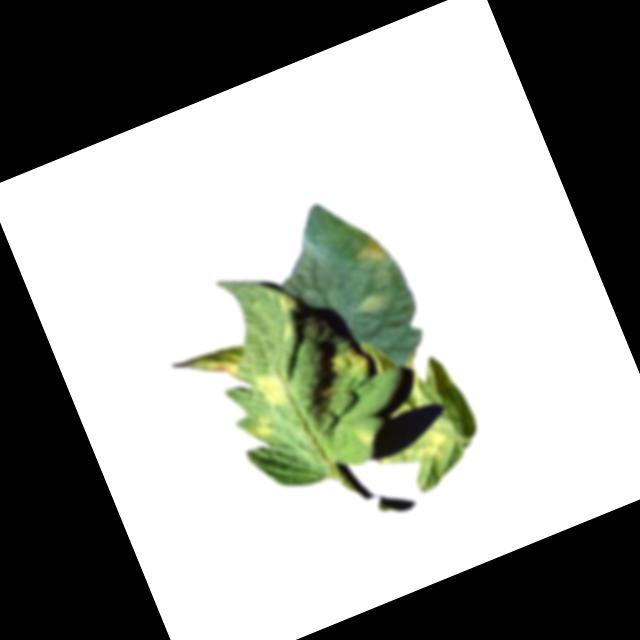Leaf_Mold: (175, 337, 251, 397), (409, 418, 460, 467), (328, 341, 375, 384), (252, 363, 293, 412), (352, 234, 395, 273), (240, 413, 285, 448), (352, 286, 396, 321)
